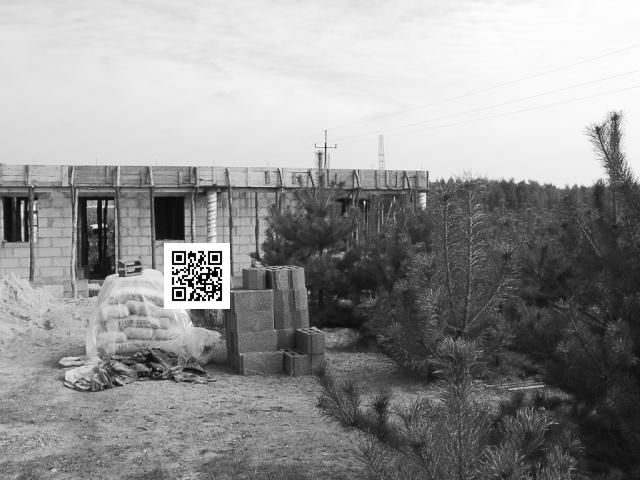qr_code: (164, 241, 231, 308)
